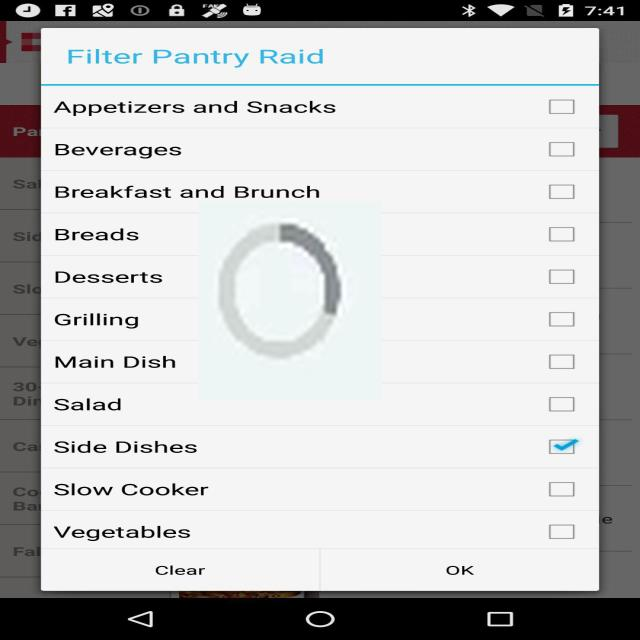misdirection: (198, 202, 382, 400)
